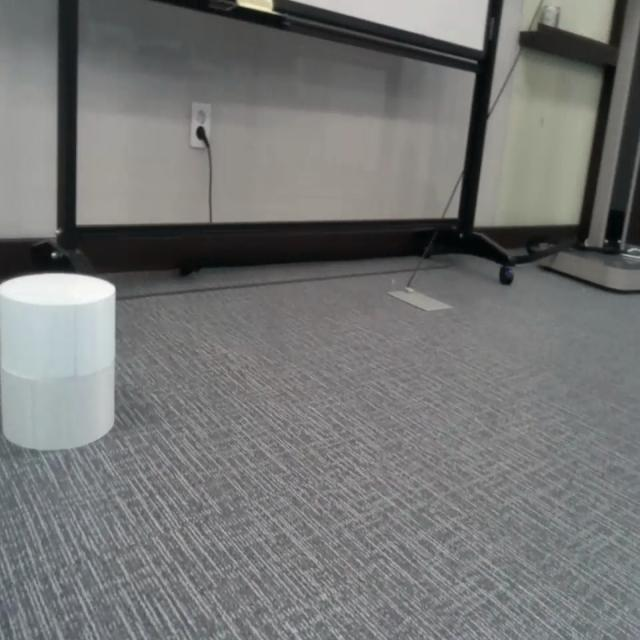cylinder: (0, 271, 117, 452)
